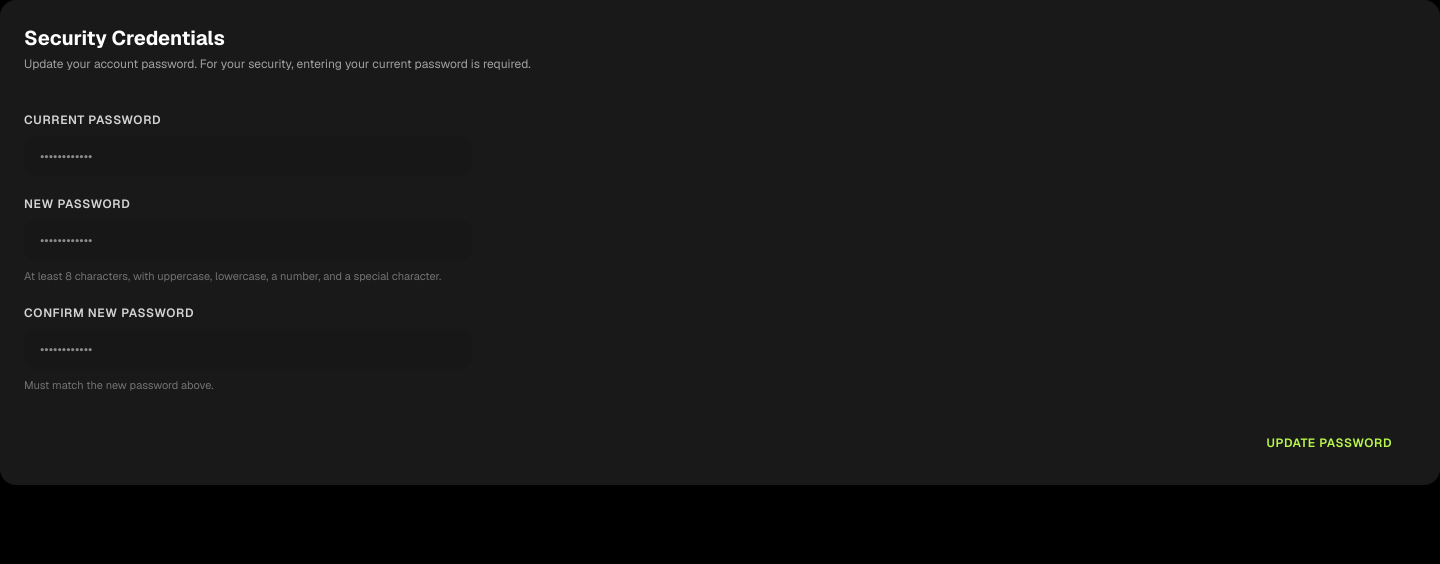
ProfileSecuritySettings › updates password, clears fields, and renders success message
Type "OldPass1!" into the password field labelled "Current Password" at coordinates (248, 156), box [24,136,472,176]
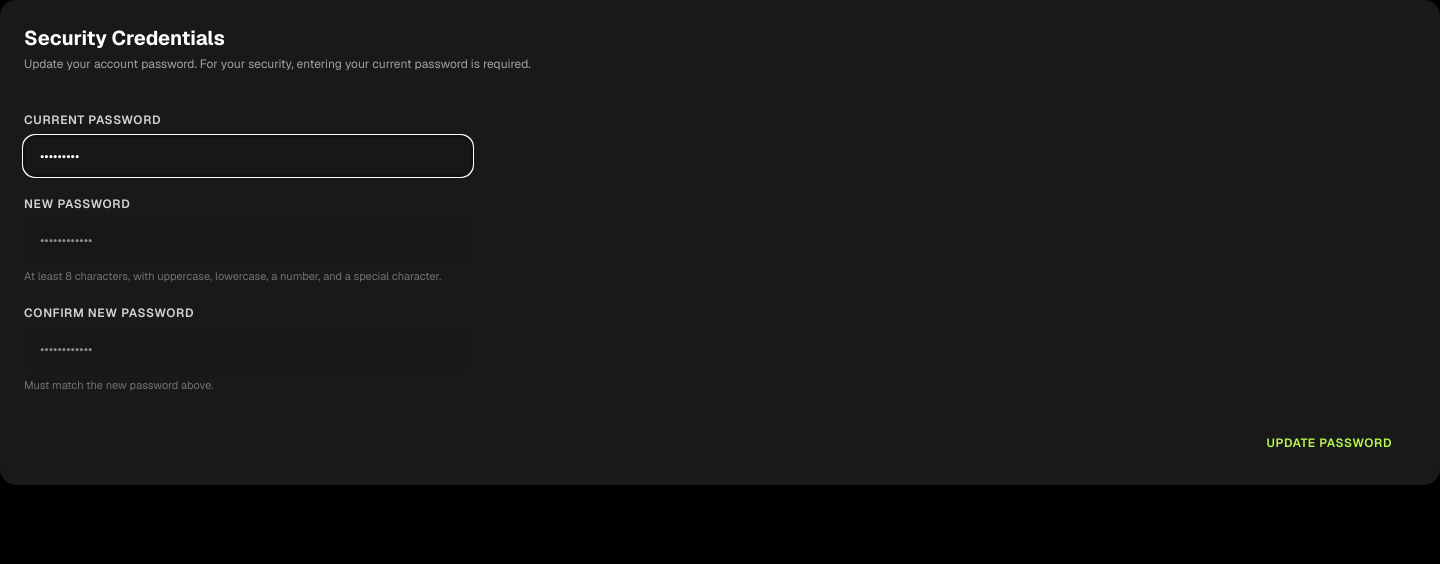
Type "StrongPass1!" into the password field labelled "New Password" at coordinates (248, 240), box [24,220,472,260]
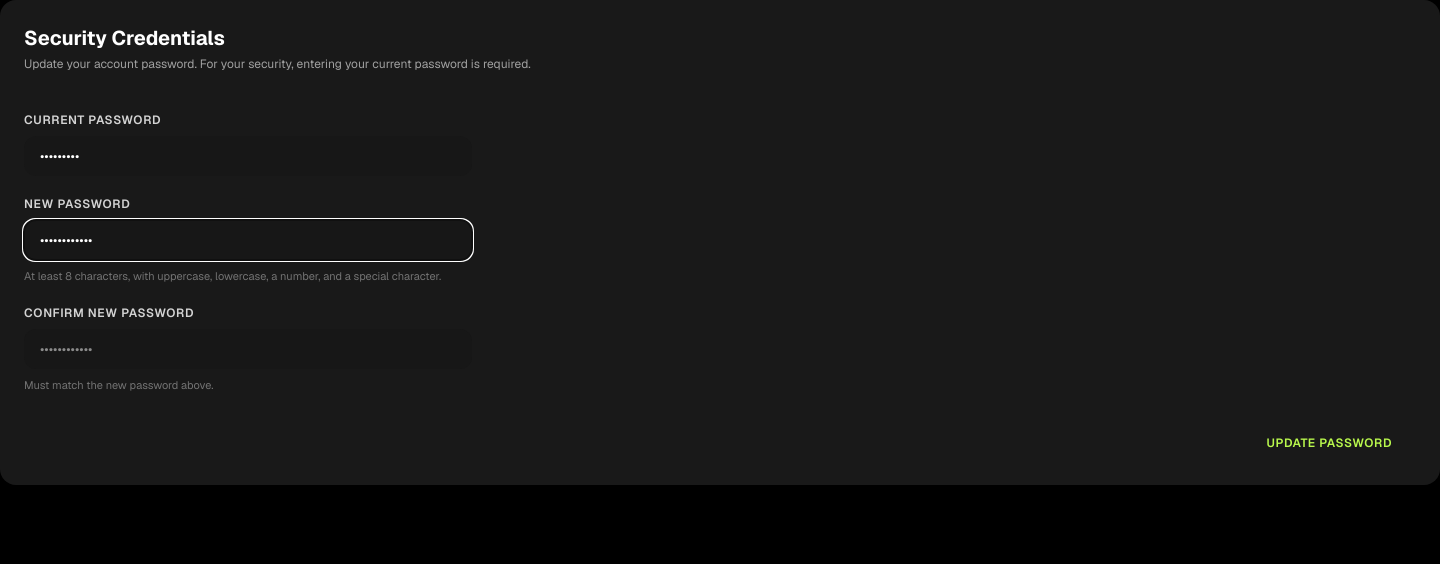
Type "StrongPass1!" into the password field labelled "Confirm New Password" at coordinates (248, 348), box [24,328,472,368]
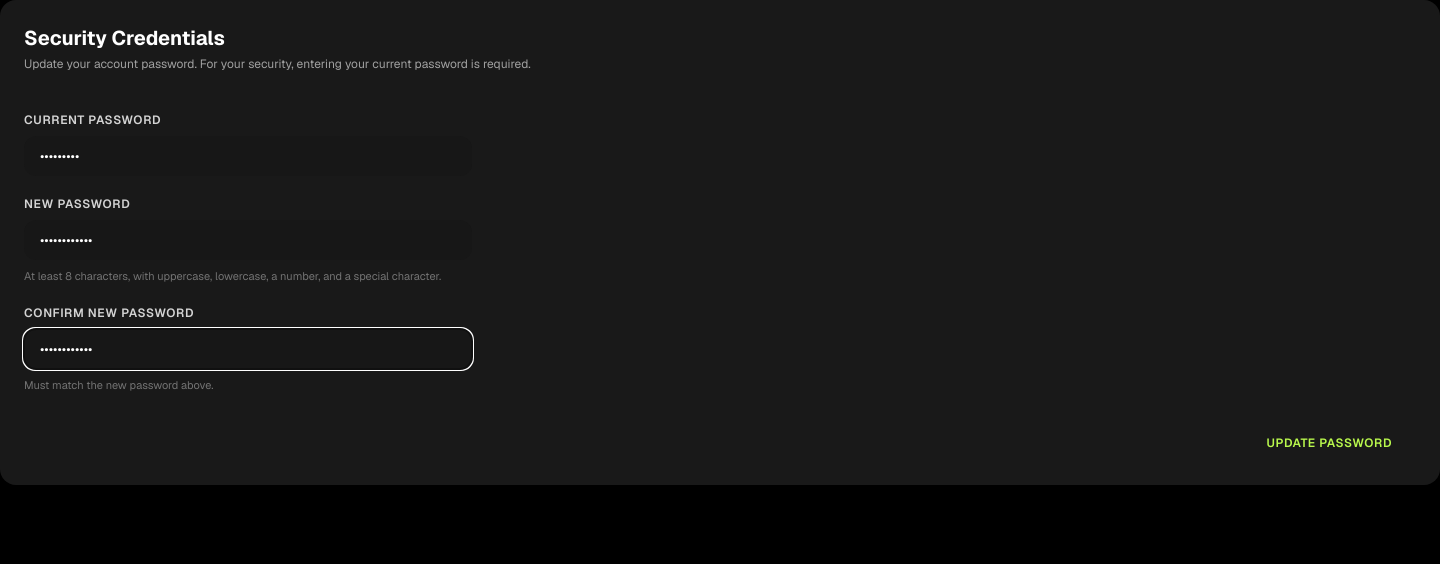
Click the button "Update Password" at coordinates (1329, 443), box [1242,425,1416,461]
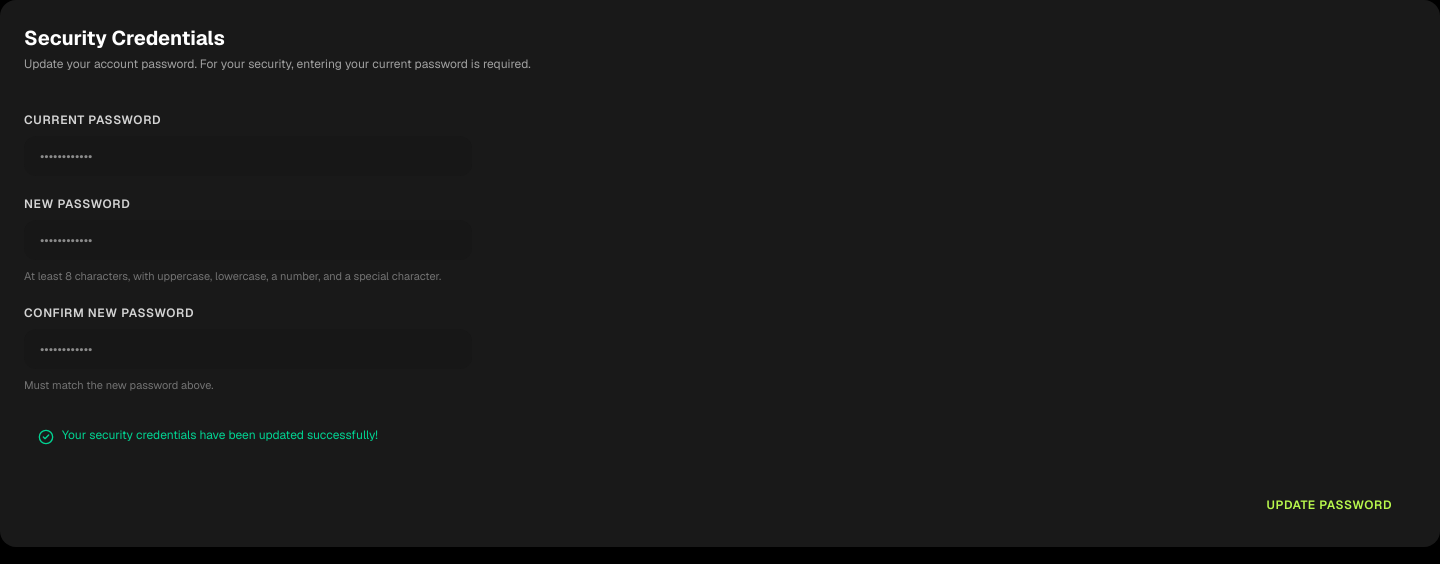
Expected: the text "Your security credentials have been updated successfully!" is shown, [62,427,378,443]
Expected: the password field labelled "Current Password" is empty, [24,136,472,176]
Expected: the password field labelled "New Password" is empty, [24,220,472,260]
